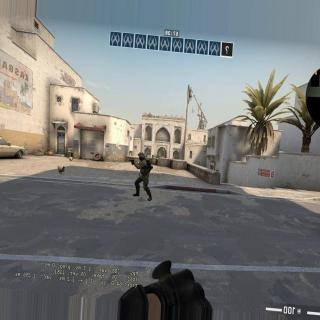CT-Body: (130, 150, 156, 200)
CT-Head: (136, 152, 148, 160)
